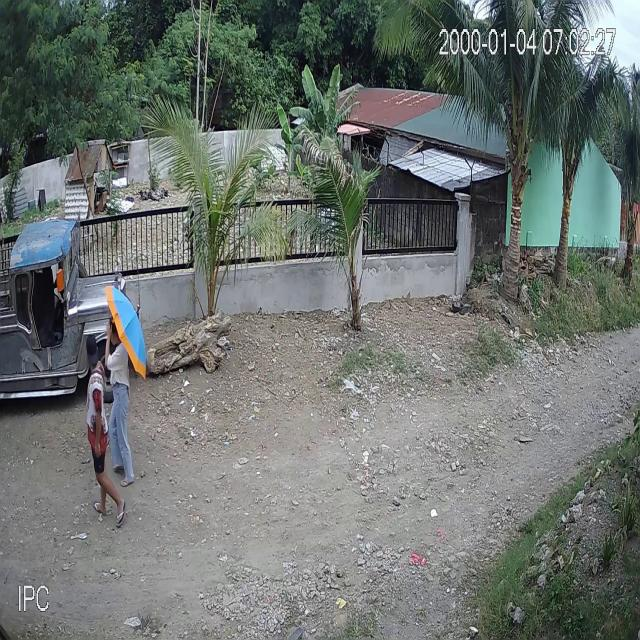walking: (103, 284, 147, 492), (82, 326, 126, 530)
